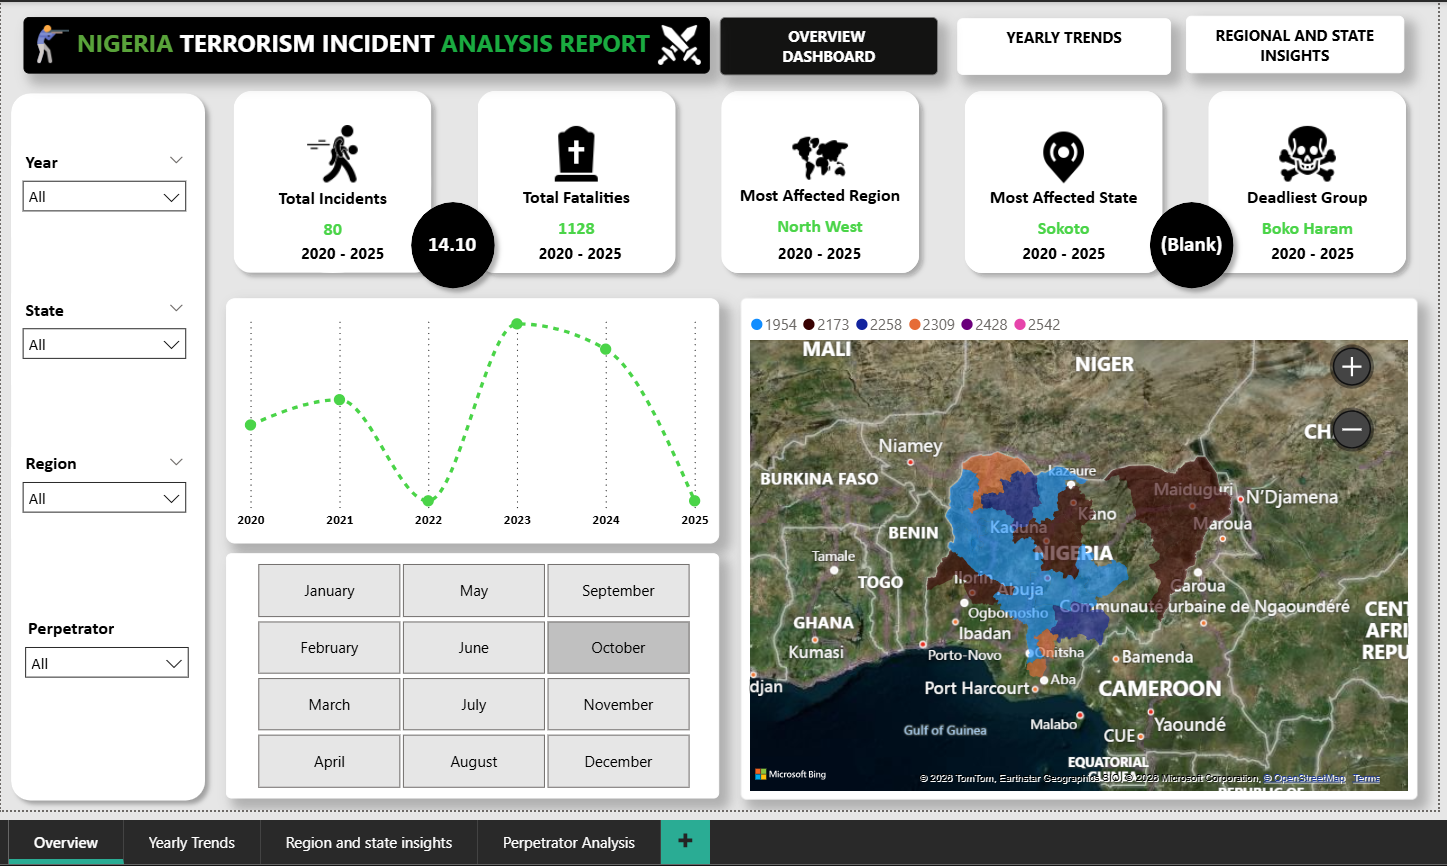

The dashboard page shown, as its layout file describes it:
{"tool":"powerbi","page":{"name":"Overview ","canvas":[1280,720],"ordinal":0},"visuals":[{"type":"cardVisual","fields":{"Data":["nigeria_security_incidents.Total Incidents","Sum(nigeria_security_incidents.killed)","nigeria_security_incidents.Most Affected Region","nigeria_security_incidents.Most Affected State","nigeria_security_incidents.Deadliest Grou"]},"box":[190.7,62.8,1079.1,196.5],"z":0},{"type":"lineChart","fields":{"Category":["nigeria_security_incidents.date.Variation.Date Hierarchy.Year","nigeria_security_incidents.date.Variation.Date Hierarchy.Month"],"Y":["CountNonNull(nigeria_security_incidents.incident_id)"]},"box":[200,264,439.5,218.6],"z":1000},{"type":"filledMap","fields":{"Category":["nigeria_security_incidents.state","nigeria_security_incidents.region"],"Series":["yearly_fatalities_kidnappings.total_fatalities"]},"box":[659.3,264,602.3,446.5],"z":2000},{"type":"shape","box":[355.7,169.4,92.6,94.8],"z":3000},{"type":"card","fields":{"Values":["nigeria_security_incidents.Average Fatalities Per Attack"]},"box":[364.7,190.8,73.4,53.1],"z":4000},{"type":"slicer","fields":{"Values":["nigeria_security_incidents.month_name"]},"box":[200,490.7,439.5,218.6],"z":5000},{"type":"shape","box":[0,72.1,190.7,647.7],"z":6000},{"type":"textbox","box":[851.2,14,190.7,50],"z":7000},{"type":"textbox","box":[640,13.2,194.6,51.7],"z":8000},{"type":"textbox","box":[1055.8,12.8,194.2,51.2],"z":9000},{"type":"slicer","fields":{"Values":["nigeria_security_incidents.year"]},"box":[9.3,127.9,166.3,81.4],"z":10000},{"type":"slicer","fields":{"Values":["nigeria_security_incidents.state"]},"box":[9.3,259.3,166.3,81.4],"z":11000},{"type":"slicer","fields":{"Values":["nigeria_security_incidents.region"]},"box":[9.3,396.5,166.3,81.4],"z":12000},{"type":"slicer","fields":{"Values":["nigeria_security_incidents.perpetrator"]},"box":[11.6,543,166.3,81.4],"z":13000},{"type":"textbox","box":[252.3,209.3,103.5,27.9],"z":14000},{"type":"shape","box":[1014,169.4,92.6,94.8],"z":15000},{"type":"card","fields":{"Values":["yearly_incidents_summary.YoY Incidents %"]},"box":[1018.5,194.2,83.6,45.2],"z":16000},{"type":"textbox","box":[19.8,13.2,611.4,50.6],"z":17000},{"type":"image","box":[19.8,12.1,52.8,50.6],"z":18000},{"type":"image","box":[578.1,12.4,53.1,51.9],"z":19000},{"type":"textbox","box":[464,209.3,103.5,27.9],"z":20000},{"type":"textbox","box":[677.9,209.3,102.3,27.9],"z":21000},{"type":"textbox","box":[895.4,209.3,103.5,27.9],"z":22000},{"type":"textbox","box":[1116.3,209.3,103.5,27.9],"z":23000}]}

Visuals, with their boxes on the page's 1280x720 design canvas (x1, y1, x2, y2). These are canvas units, not pixel positions in the 1447x866 screenshot, which may show the page scaled, cropped or inside an application window:
cardVisual - nigeria_security_incidents.Total Incidents x Sum(nigeria_security_incidents.killed): <bbox>191, 63, 1270, 259</bbox>
lineChart - nigeria_security_incidents.date.Variation.Date Hierarchy.Year x nigeria_security_incidents.date.Variation.Date Hierarchy.Month: <bbox>200, 264, 640, 483</bbox>
filledMap - nigeria_security_incidents.state x nigeria_security_incidents.region: <bbox>659, 264, 1262, 710</bbox>
shape: <bbox>356, 169, 448, 264</bbox>
card - nigeria_security_incidents.Average Fatalities Per Attack: <bbox>365, 191, 438, 244</bbox>
slicer - nigeria_security_incidents.month_name: <bbox>200, 491, 640, 709</bbox>
shape: <bbox>0, 72, 191, 720</bbox>
textbox: <bbox>851, 14, 1042, 64</bbox>
textbox: <bbox>640, 13, 835, 65</bbox>
textbox: <bbox>1056, 13, 1250, 64</bbox>
slicer - nigeria_security_incidents.year: <bbox>9, 128, 176, 209</bbox>
slicer - nigeria_security_incidents.state: <bbox>9, 259, 176, 341</bbox>
slicer - nigeria_security_incidents.region: <bbox>9, 396, 176, 478</bbox>
slicer - nigeria_security_incidents.perpetrator: <bbox>12, 543, 178, 624</bbox>
textbox: <bbox>252, 209, 356, 237</bbox>
shape: <bbox>1014, 169, 1107, 264</bbox>
card - yearly_incidents_summary.YoY Incidents %: <bbox>1018, 194, 1102, 239</bbox>
textbox: <bbox>20, 13, 631, 64</bbox>
image: <bbox>20, 12, 73, 63</bbox>
image: <bbox>578, 12, 631, 64</bbox>
textbox: <bbox>464, 209, 568, 237</bbox>
textbox: <bbox>678, 209, 780, 237</bbox>
textbox: <bbox>895, 209, 999, 237</bbox>
textbox: <bbox>1116, 209, 1220, 237</bbox>
